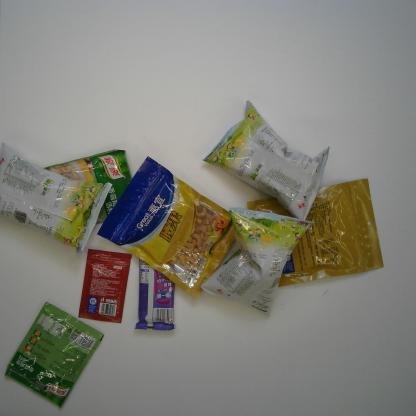Candy: (133, 247, 176, 330)
Dried Fruit: (97, 154, 244, 300), (245, 175, 383, 291)
Puffed Food: (204, 98, 332, 223), (0, 141, 113, 259), (199, 202, 312, 313)
Seasoner: (2, 301, 108, 410), (36, 147, 140, 234), (77, 248, 135, 326)
